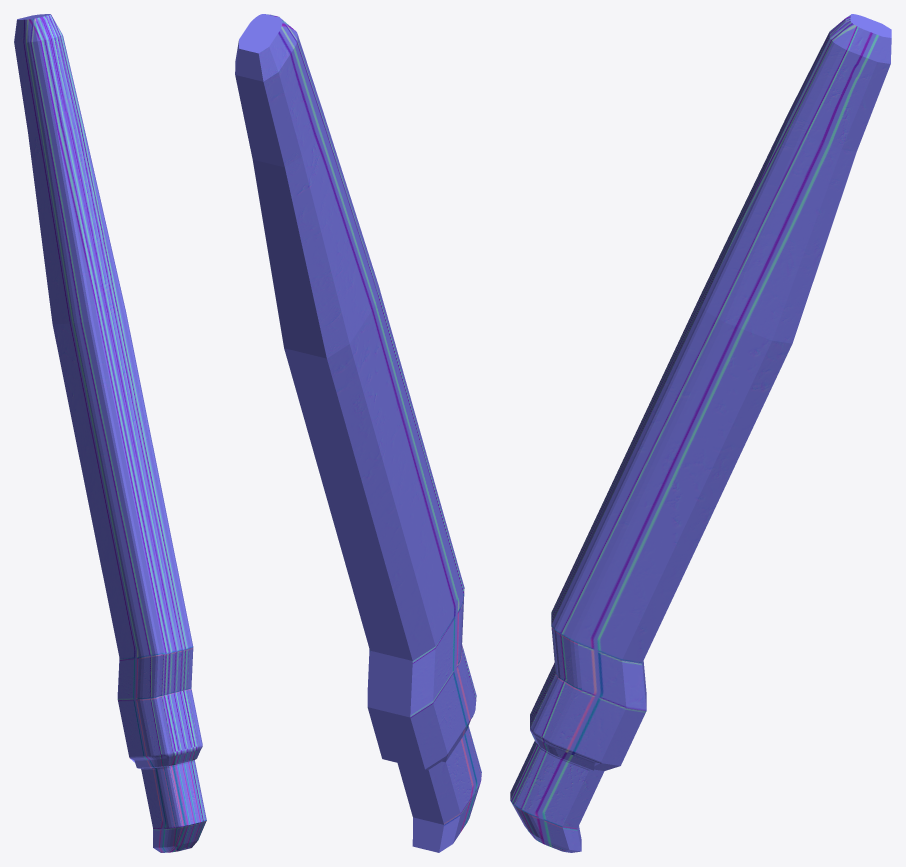
The model's file is tOWER 1.fbx.
The picture shows the model from 3 angles, left to right: view 1: azimuth 30°, elevation 25°; view 2: azimuth 150°, elevation 25°; view 3: azimuth 270°, elevation 25°; orthographic projection. The views are drawn at different scales.
Parts seen in each view (by area): view 1: Cube.064; view 2: Cube.064; view 3: Cube.064.
Part boxes in pixels (x1,y1,x2,y2): Cube.064: (14, 14, 206, 852); Cube.064: (235, 14, 481, 852); Cube.064: (510, 14, 891, 852).
Size of the model in its own units: 849 by 11807 by 4911.
